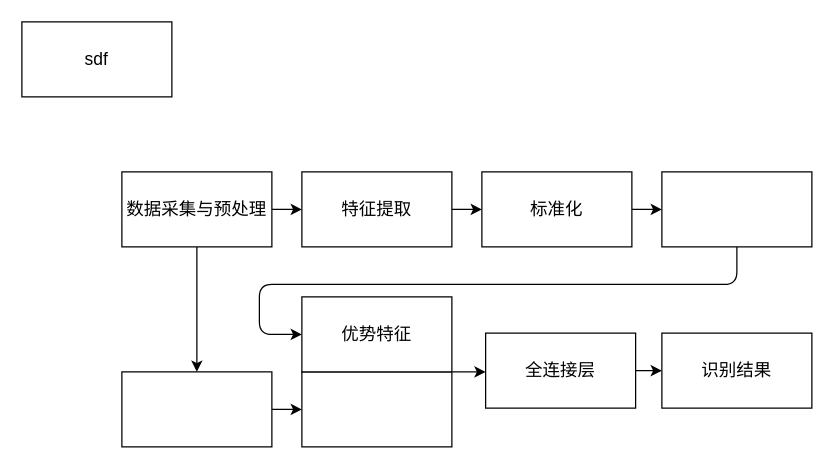
Image size: 834x469. Some labels were removed from this diagram. Each missing label, with the box of its shape:
Bi-LSTM: (121, 371, 272, 447)
平均池化层: (301, 371, 452, 447)
特征选择: (661, 171, 812, 247)
